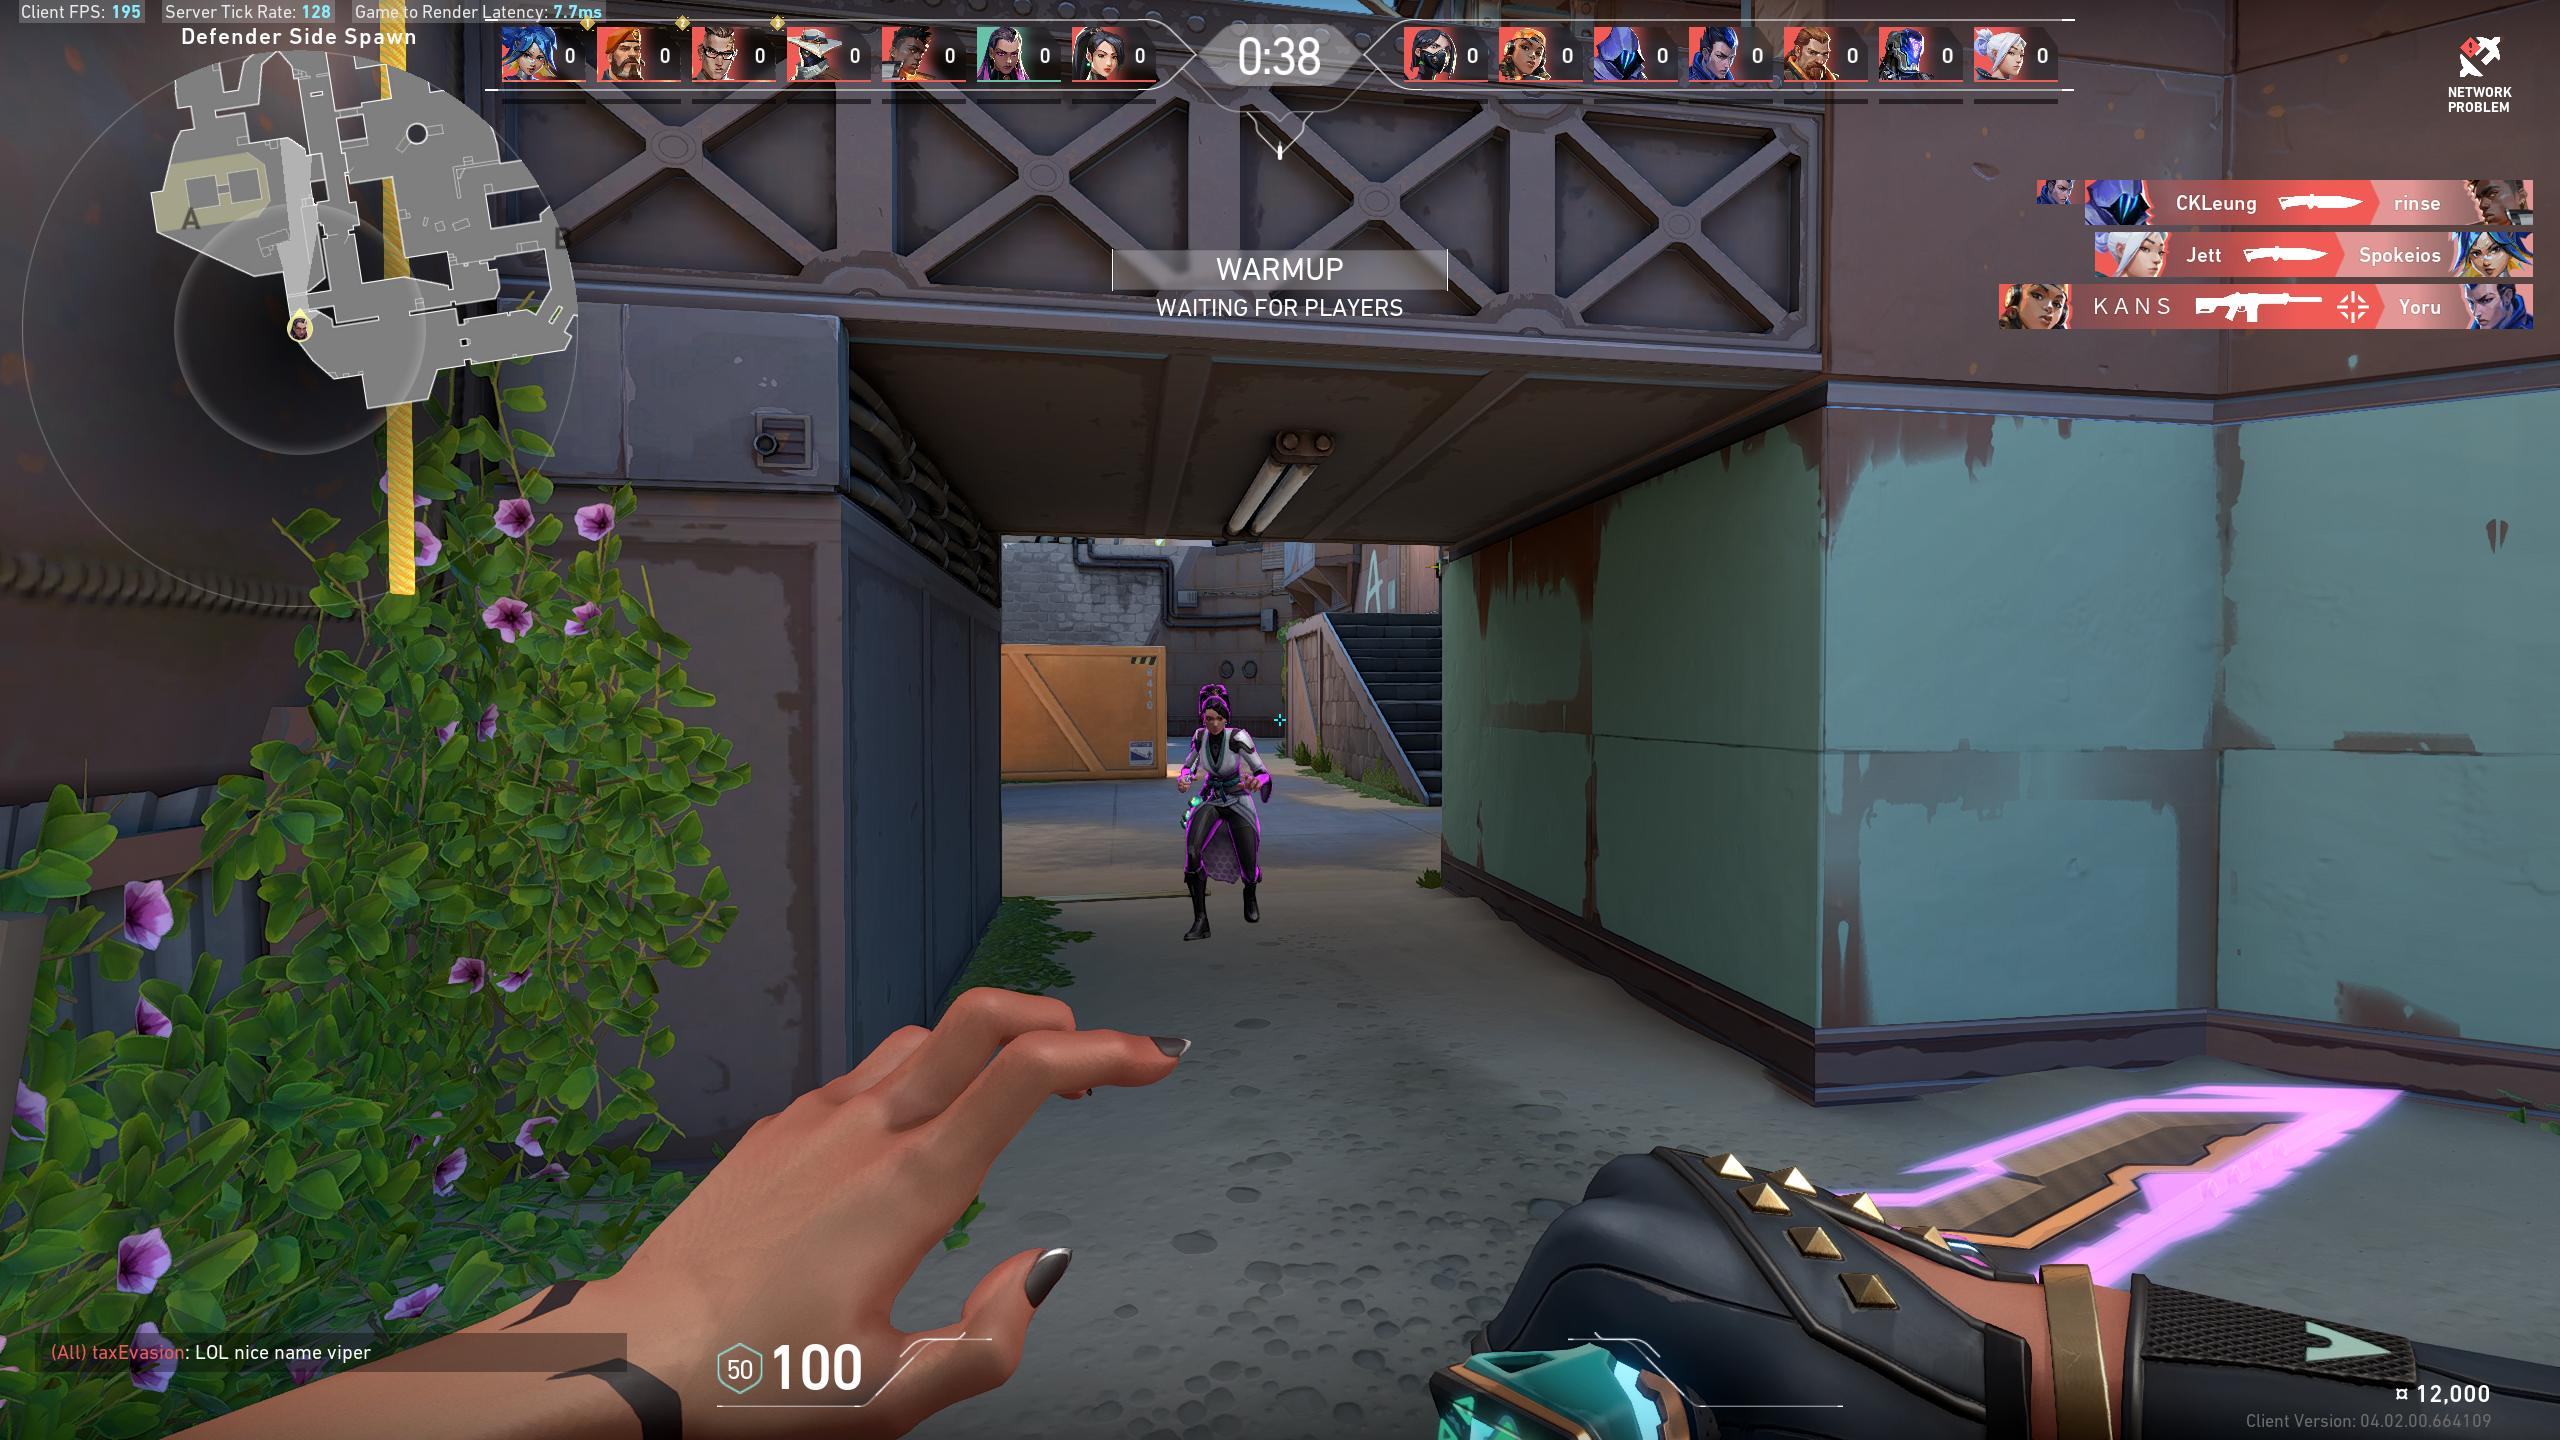enemyBody: (1203, 733, 1238, 804)
enemyHead: (1203, 702, 1225, 726)
